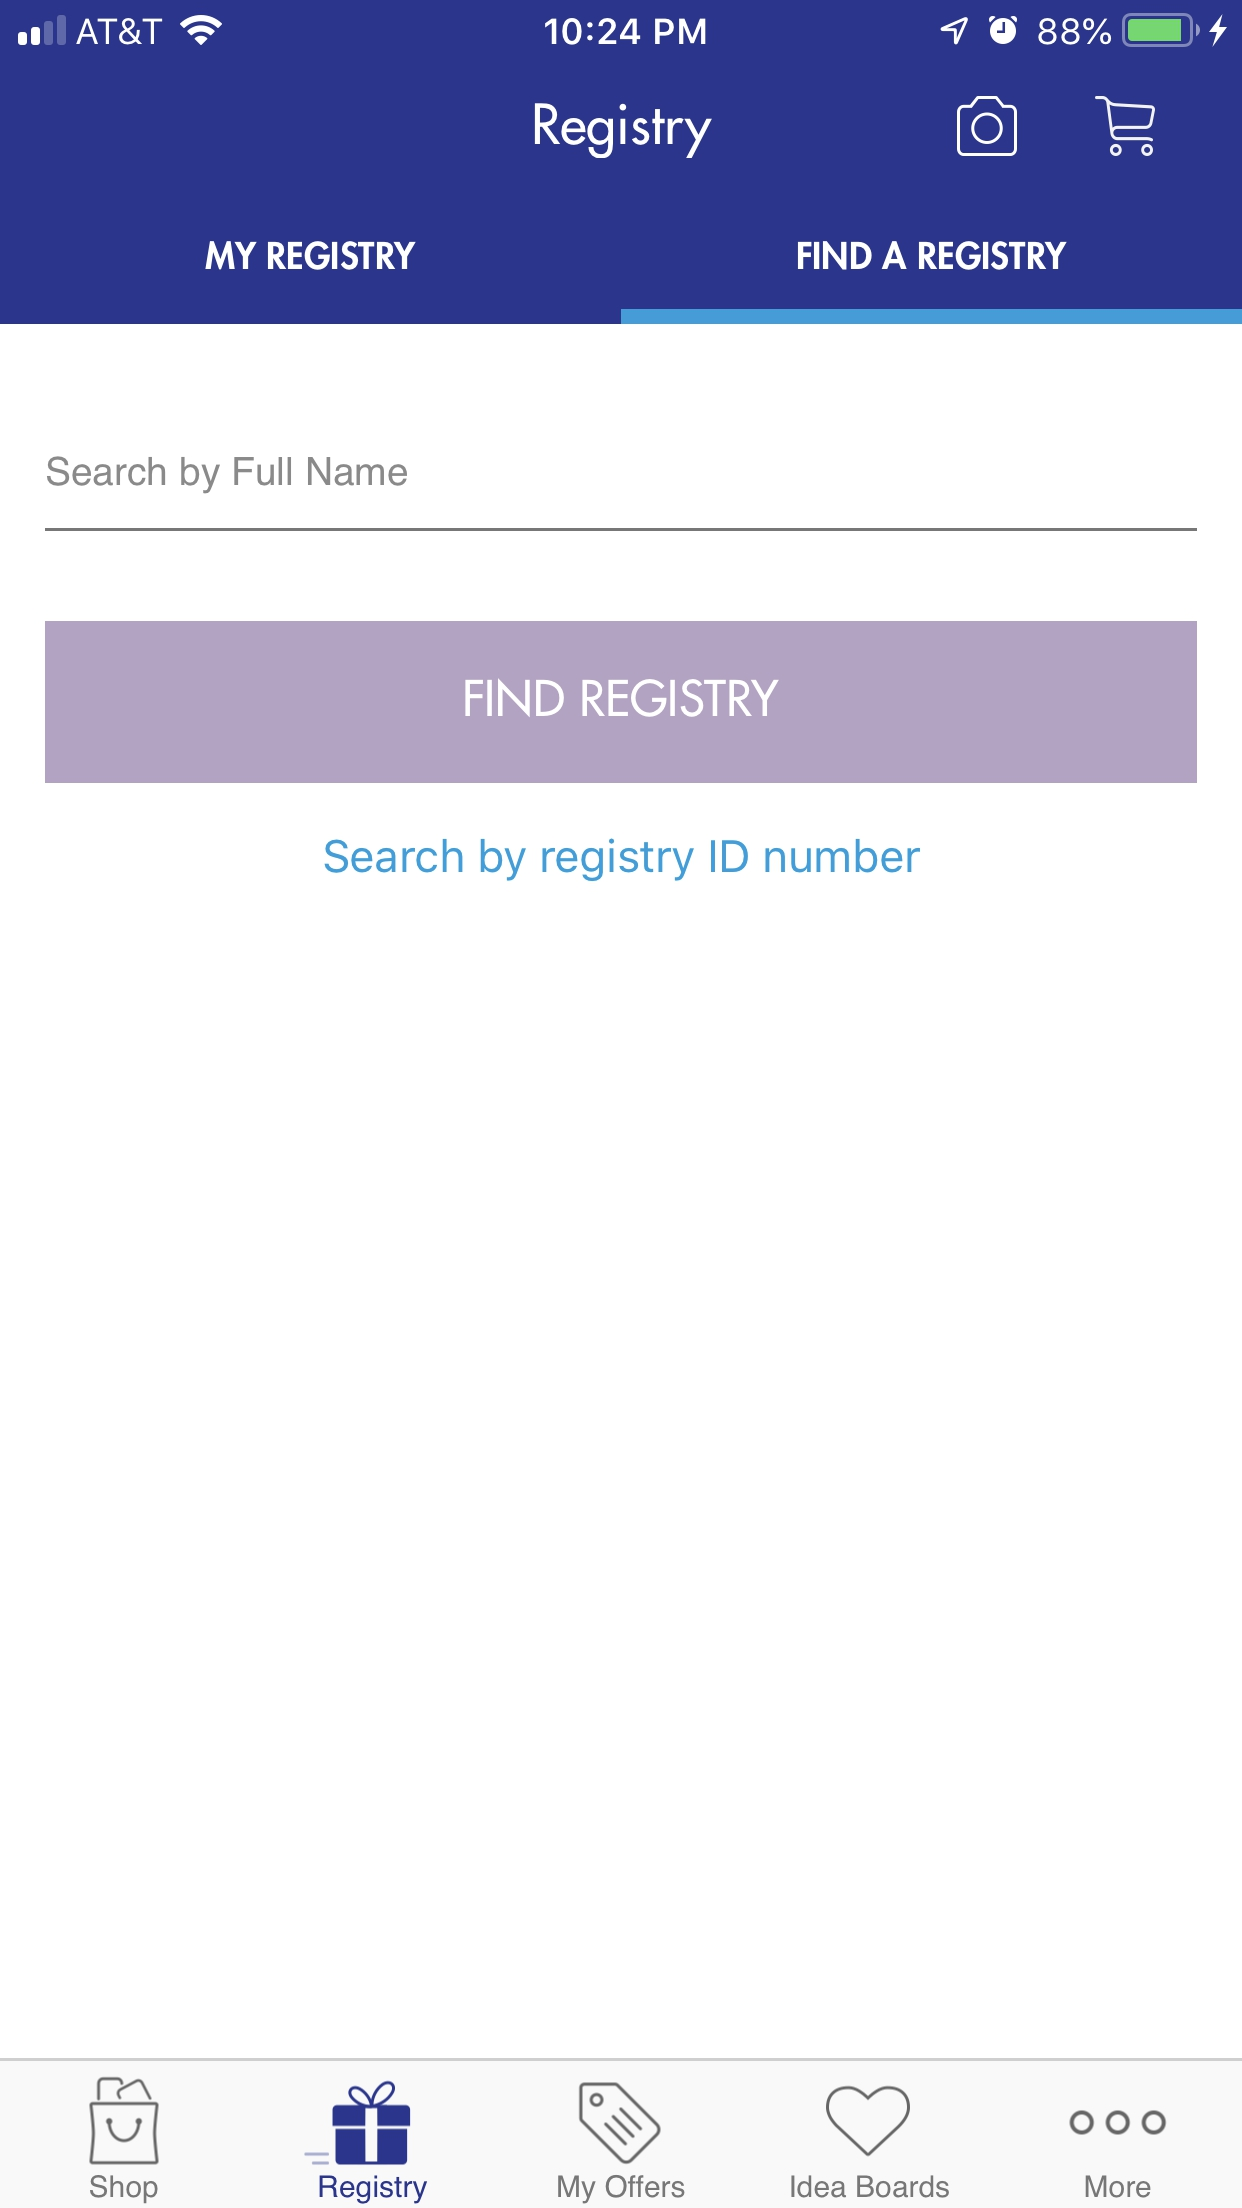EditText: (45, 456, 1198, 532)
Icon: (303, 2081, 411, 2166), (579, 2081, 663, 2166), (89, 2076, 161, 2166), (826, 2085, 911, 2156), (1093, 96, 1157, 158), (955, 96, 1018, 158), (1068, 2109, 1168, 2137)
Text: (325, 839, 921, 883), (47, 456, 408, 494), (534, 103, 713, 161), (798, 241, 1068, 271), (205, 241, 417, 271), (558, 2173, 685, 2203), (792, 2175, 949, 2199), (318, 2175, 429, 2205), (89, 2175, 159, 2203), (1084, 2175, 1151, 2199)
TextButton: (45, 622, 1197, 784)
UpperTaskBar: (2, 2, 1242, 49)
